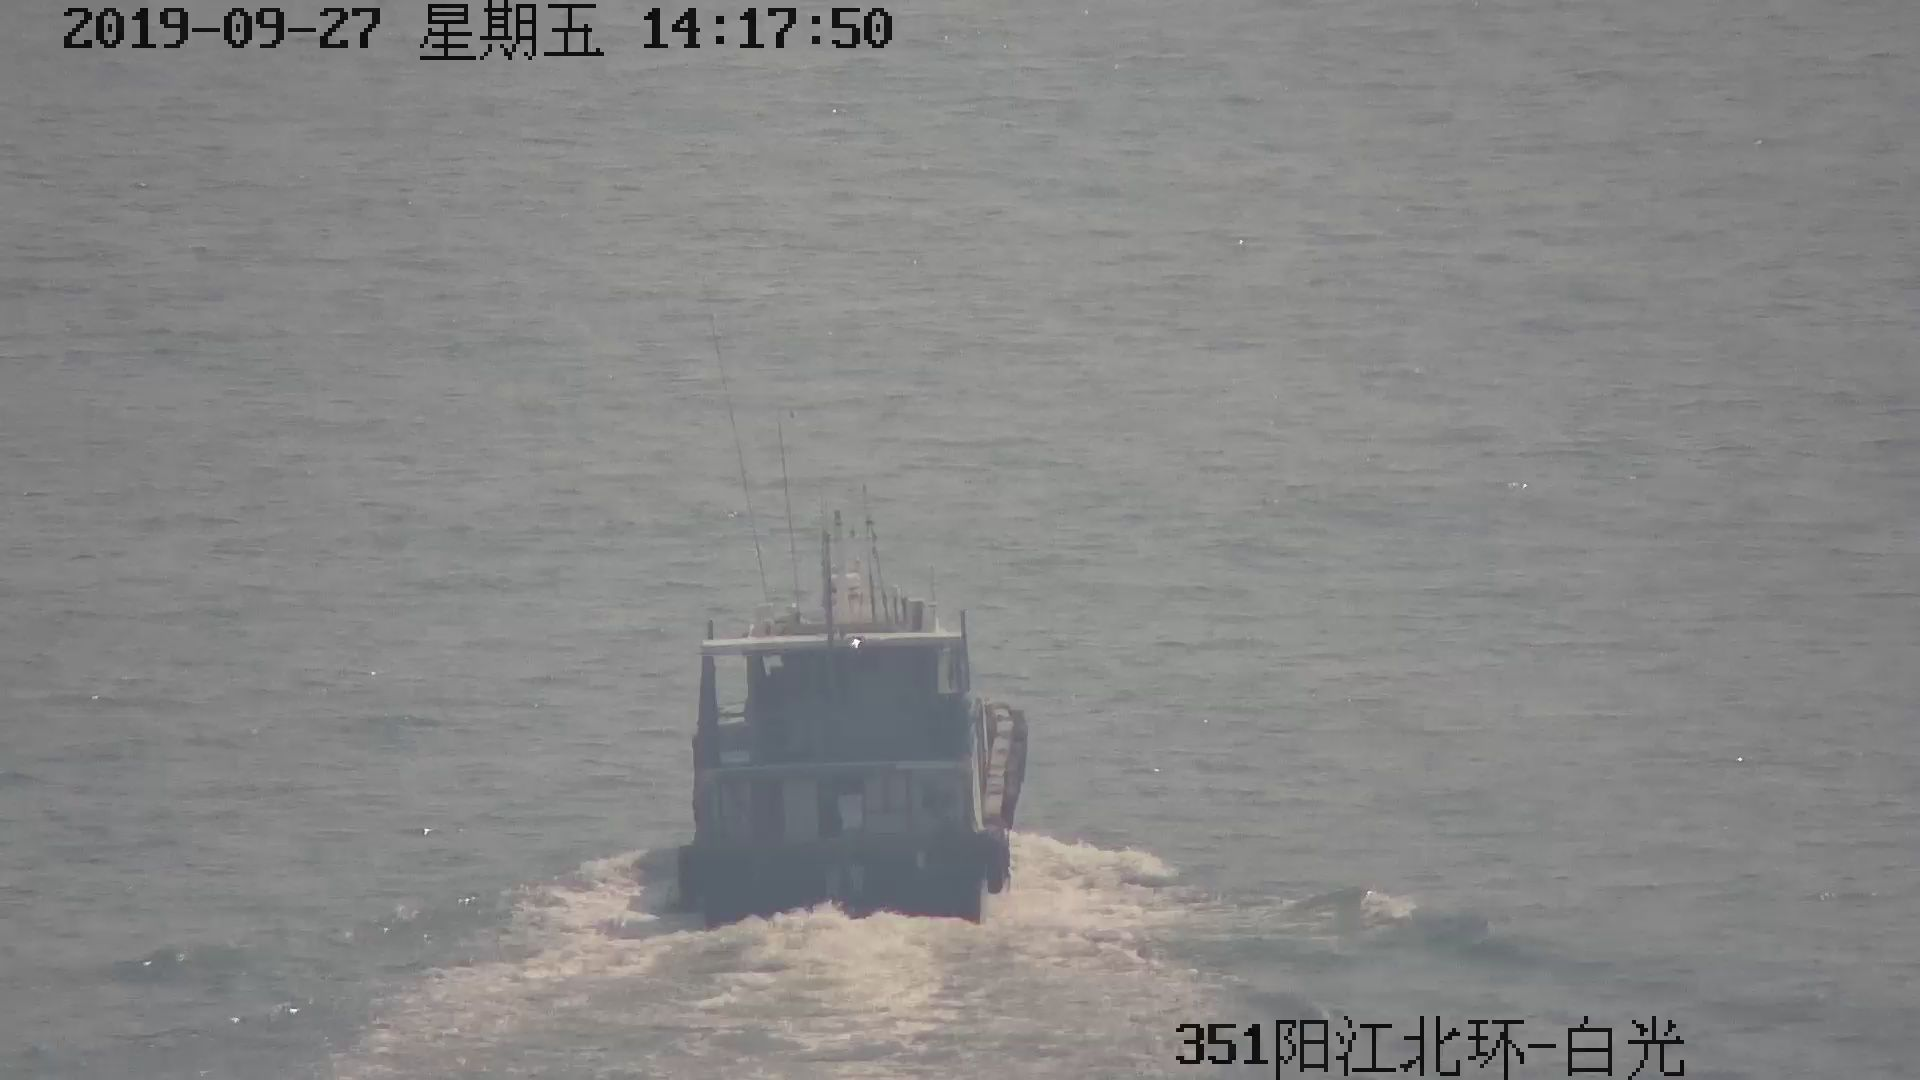ship: (680, 510, 1022, 928)
